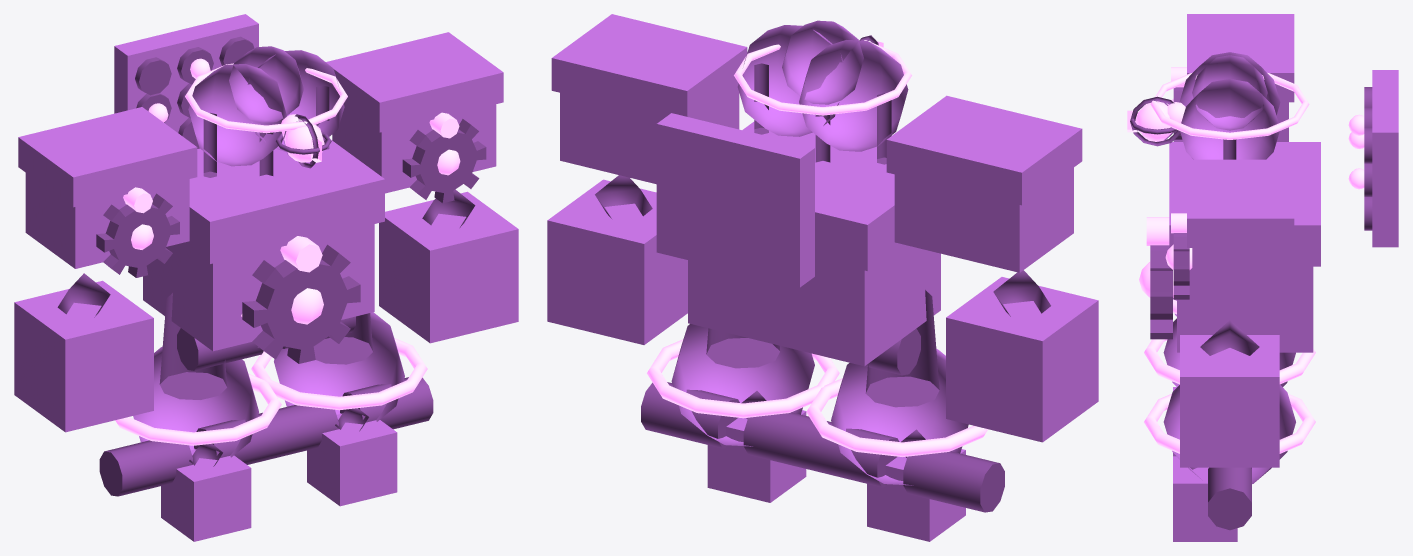
Rendered from golem_149.glb.
3 renders of one model, left to right at view 1: azimuth 30°, elevation 25°; view 2: azimuth 150°, elevation 25°; view 3: azimuth 270°, elevation 25°, orthographic. The views are drawn at different scales.
Visible parts, largest first — view 1: Body, Detail, Glow; view 2: Body, Detail, Glow; view 3: Body, Detail, Glow.
Boxes of the visible parts, x1,y1,x2,y2 form: Body: (14,14,518,541); Detail: (57,36,486,496); Glow: (115,58,460,445); Body: (547,14,1098,541); Detail: (595,35,1050,512); Glow: (647,39,987,456); Body: (1157,14,1398,541); Detail: (1130,87,1372,530); Glow: (1127,67,1364,453).
Size of the model in its own units: 1.13 by 1.06 by 0.6016.
